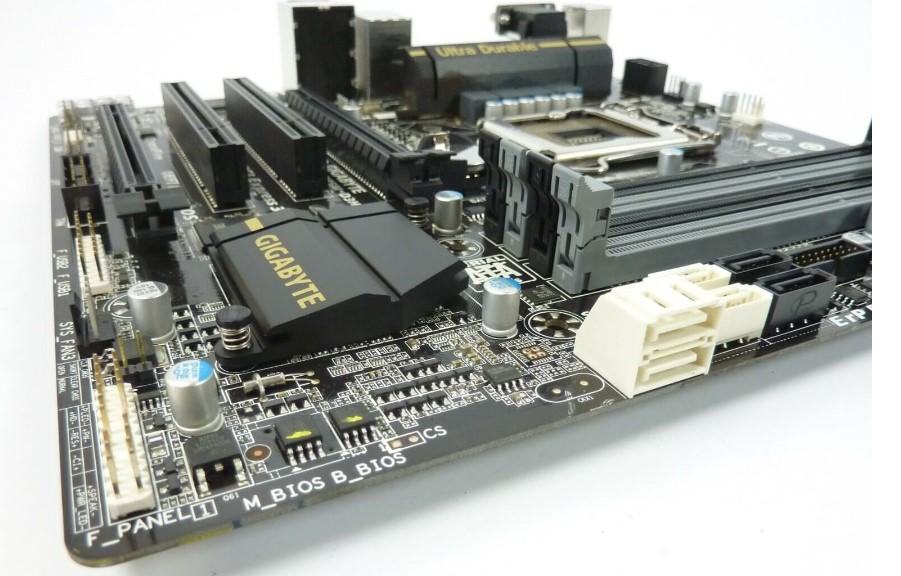Printed Circuit Board PCB: (49, 6, 874, 566)
